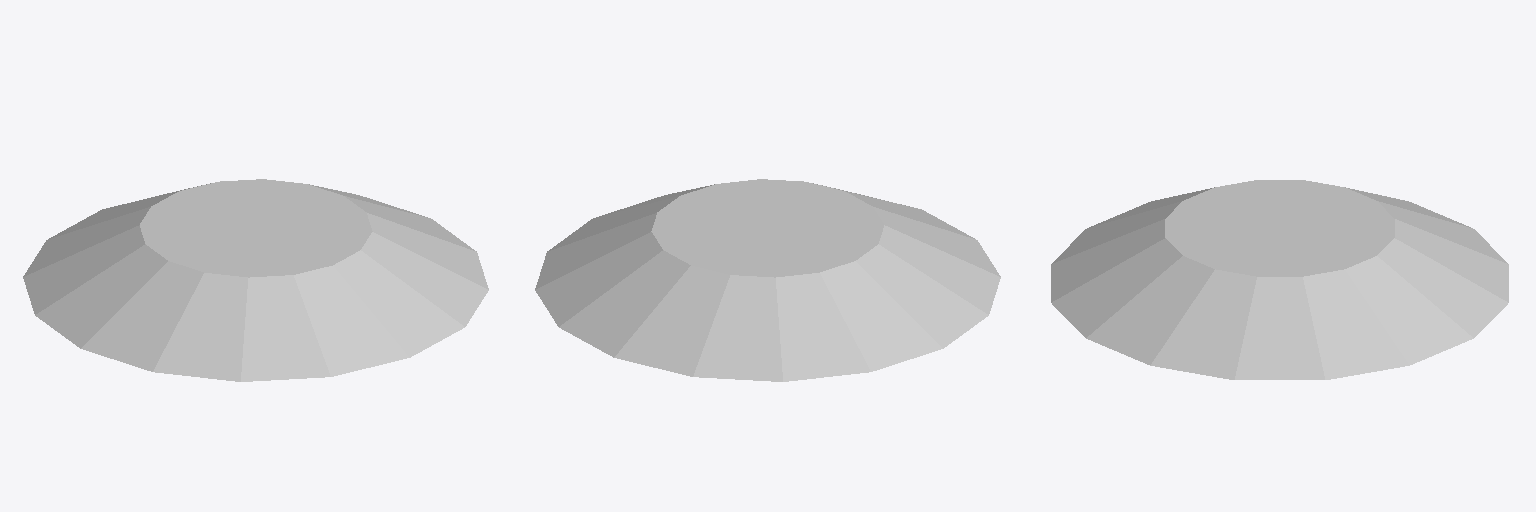
Rendered from tucana_adapter_s1p5_s0p5_1_collider.obj.
The picture shows the model from 3 angles: view 1: azimuth 30°, elevation 25°; view 2: azimuth 150°, elevation 25°; view 3: azimuth 270°, elevation 25°; orthographic projection.
Visible parts, largest first — view 1: tucana_adapter_s1p5_s1_1_collider; view 2: tucana_adapter_s1p5_s1_1_collider; view 3: tucana_adapter_s1p5_s1_1_collider.
Part boxes in pixels (bbox=[...]): tucana_adapter_s1p5_s1_1_collider: bbox=[23, 179, 488, 381]; tucana_adapter_s1p5_s1_1_collider: bbox=[535, 179, 1000, 381]; tucana_adapter_s1p5_s1_1_collider: bbox=[1051, 180, 1508, 379].
Bounding box in the file's own units: 1.88 × 0.25 × 1.88.